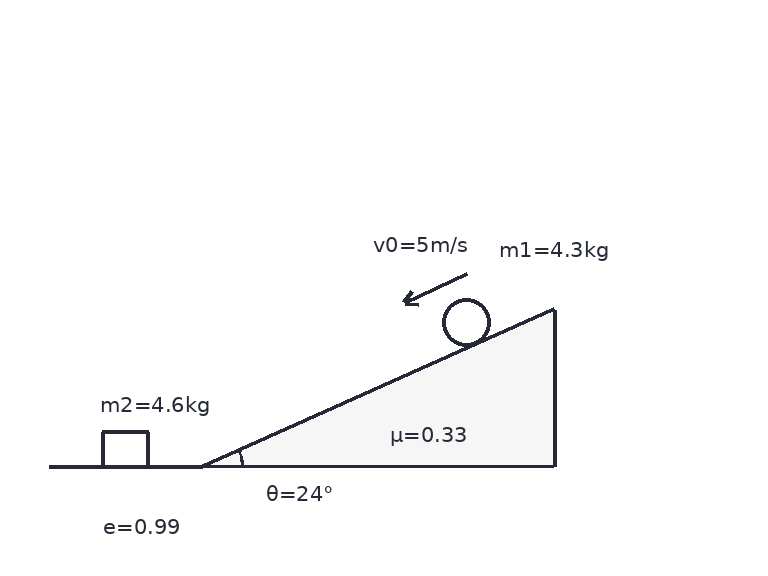ball: (440, 296, 492, 348)
block: (100, 430, 150, 468)
ramp: (200, 307, 556, 468)
